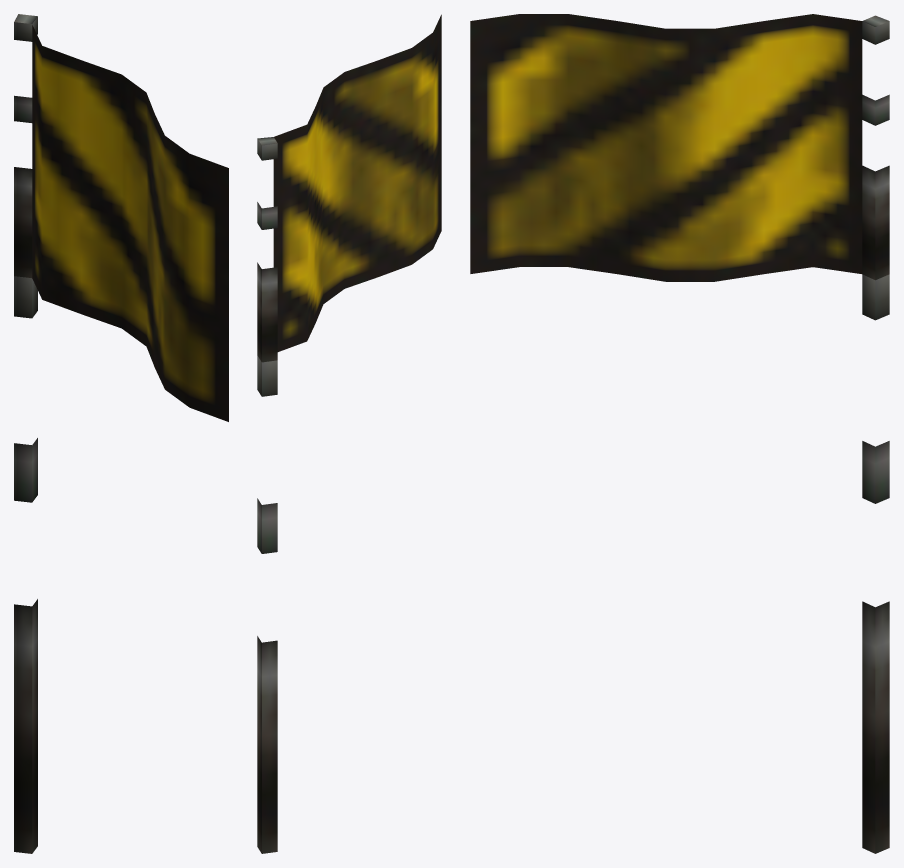
Rendered from prop-028.glb.
3 renders of one model, left to right at view 1: azimuth 30°, elevation 25°; view 2: azimuth 150°, elevation 25°; view 3: azimuth 270°, elevation 25°, orthographic. The views are drawn at different scales.
Visible parts, largest first — view 1: root; view 2: root; view 3: root.
Part boxes in pixels (box(x1,y1,x2,y2)): root: box(14, 14, 228, 853); root: box(257, 14, 441, 853); root: box(470, 14, 889, 853).
Bounding box in the file's own units: 0.0566 × 1.49 × 0.6836.
2 materials, 2 textured.
